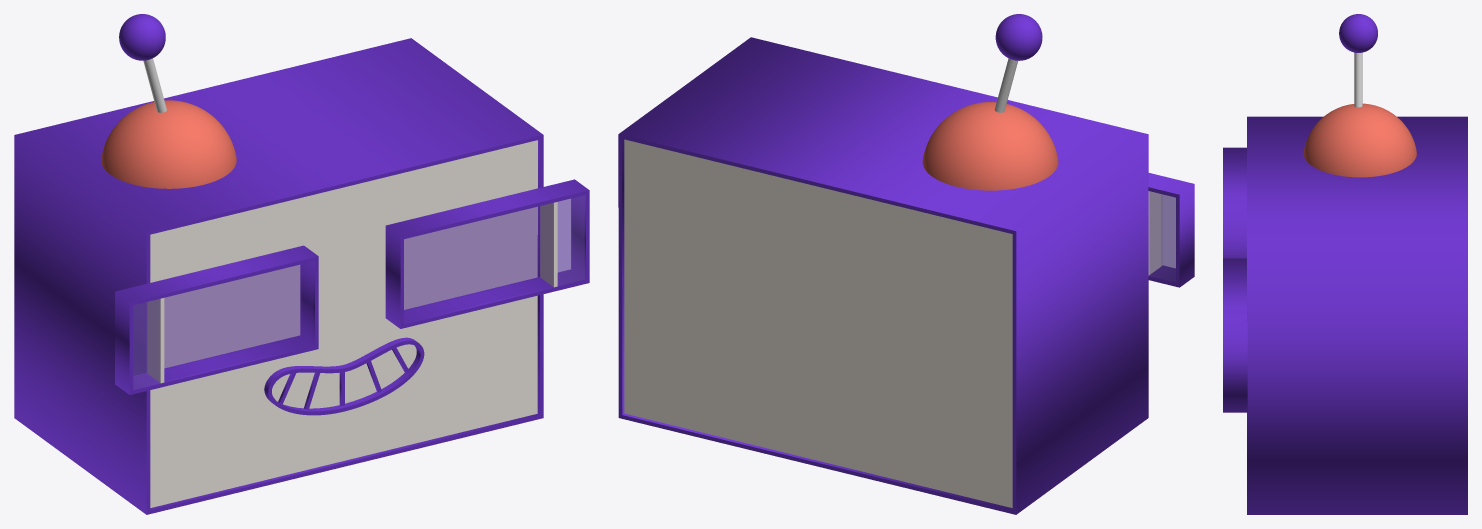
File: Head_test.gltf
3 renders of one model, left to right at view 1: azimuth 30°, elevation 25°; view 2: azimuth 150°, elevation 25°; view 3: azimuth 270°, elevation 25°, orthographic. The views are drawn at different scales.
Parts seen in each view (by area): view 1: Curve.111, Curve.112, Curve.113, Curve.140, Curve.141, Curve.114, Sphere, Curve.116, Curve.117, Curve.142, Sphere.001, Curve.143 (+1 smaller); view 2: Curve.111, Curve.112, Sphere, Curve.114, Curve.117, Curve.113, Sphere.001, Curve.130; view 3: Curve.112, Sphere, Curve.141, Curve.114, Sphere.001, Cylinder.
Boxes of the visible parts, left/top/right/bottom form: Curve.111: left=150, top=140, right=537, bottom=507; Curve.112: left=14, top=38, right=543, bottom=514; Curve.113: left=133, top=262, right=313, bottom=387; Curve.140: left=404, top=196, right=583, bottom=322; Curve.141: left=385, top=179, right=589, bottom=328; Curve.114: left=115, top=245, right=318, bottom=394; Sphere: left=101, top=100, right=236, bottom=188; Curve.116: left=264, top=337, right=424, bottom=415; Curve.117: left=133, top=299, right=160, bottom=388; Curve.142: left=558, top=195, right=584, bottom=285; Sphere.001: left=119, top=14, right=165, bottom=60; Curve.143: left=540, top=202, right=557, bottom=287; Curve.111: left=624, top=139, right=1012, bottom=507; Curve.112: left=618, top=37, right=1148, bottom=514; Sphere: left=922, top=102, right=1058, bottom=190; Curve.114: left=1148, top=173, right=1194, bottom=287; Curve.117: left=1149, top=191, right=1175, bottom=281; Curve.113: left=1150, top=192, right=1175, bottom=280; Sphere.001: left=995, top=14, right=1042, bottom=60; Curve.130: left=1148, top=191, right=1161, bottom=275; Curve.112: left=1247, top=116, right=1467, bottom=514; Sphere: left=1303, top=103, right=1416, bottom=177; Curve.141: left=1223, top=258, right=1247, bottom=412; Curve.114: left=1223, top=147, right=1246, bottom=258; Sphere.001: left=1339, top=14, right=1377, bottom=52; Cylinder: left=1354, top=52, right=1362, bottom=107.
Size of the model in its own units: 0.2725 by 0.2461 by 0.1505.
